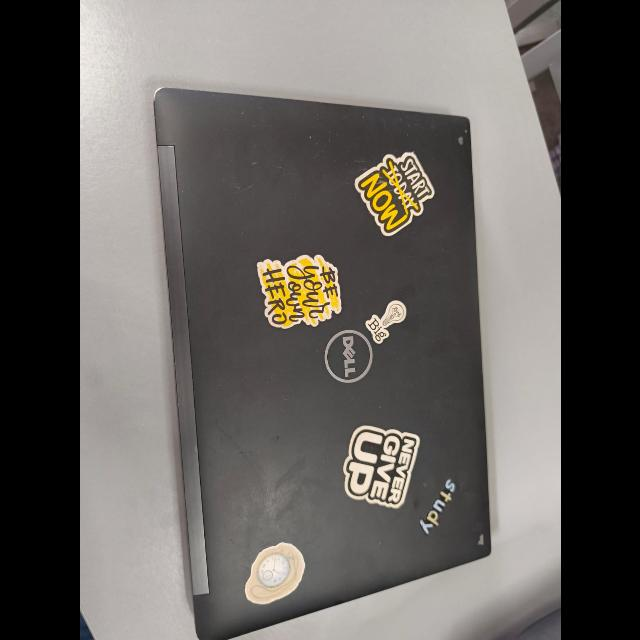laptop: (142, 63, 518, 635)
